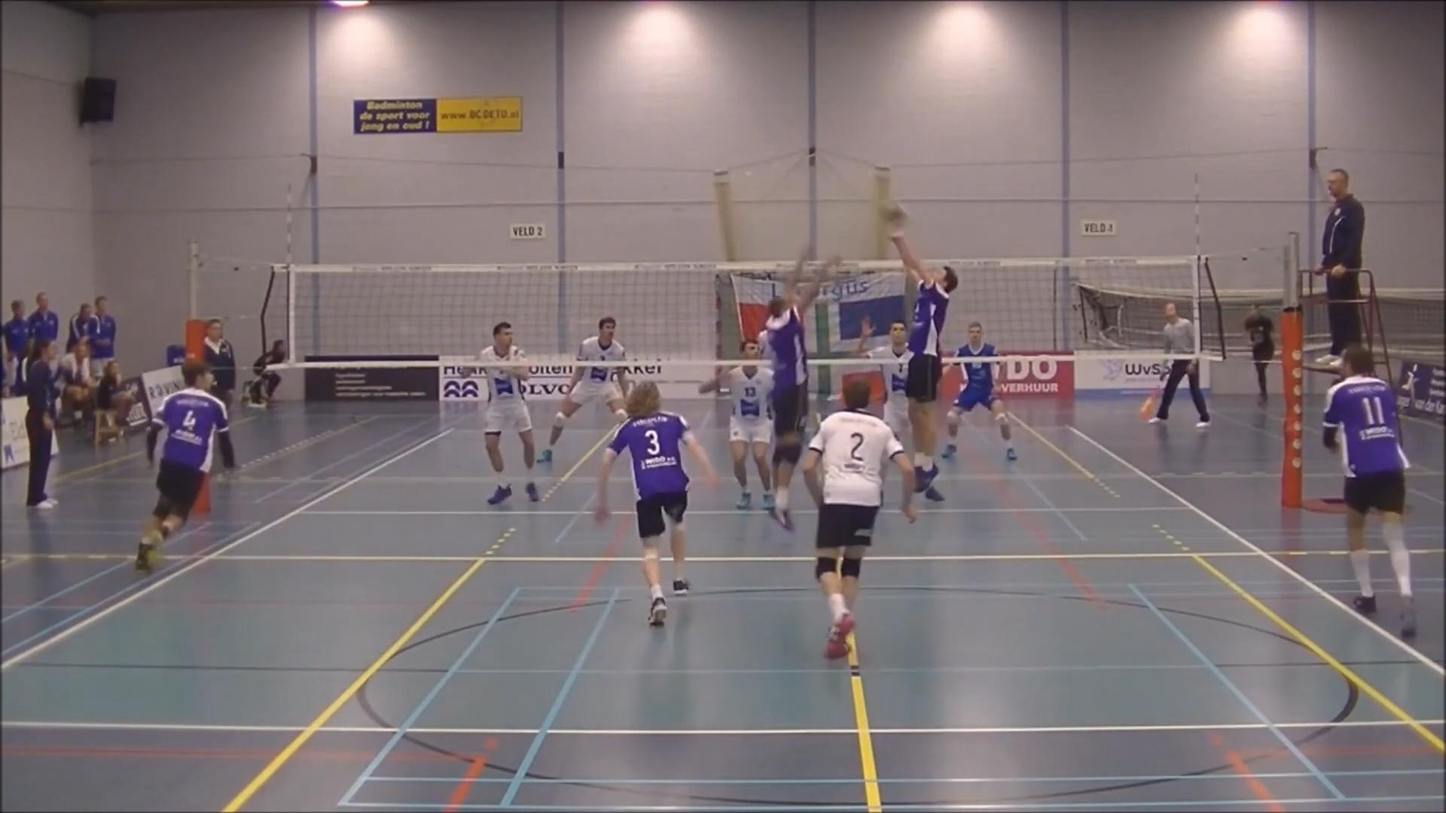alzata: (881, 216, 970, 518)
attacco: (718, 234, 847, 530)
